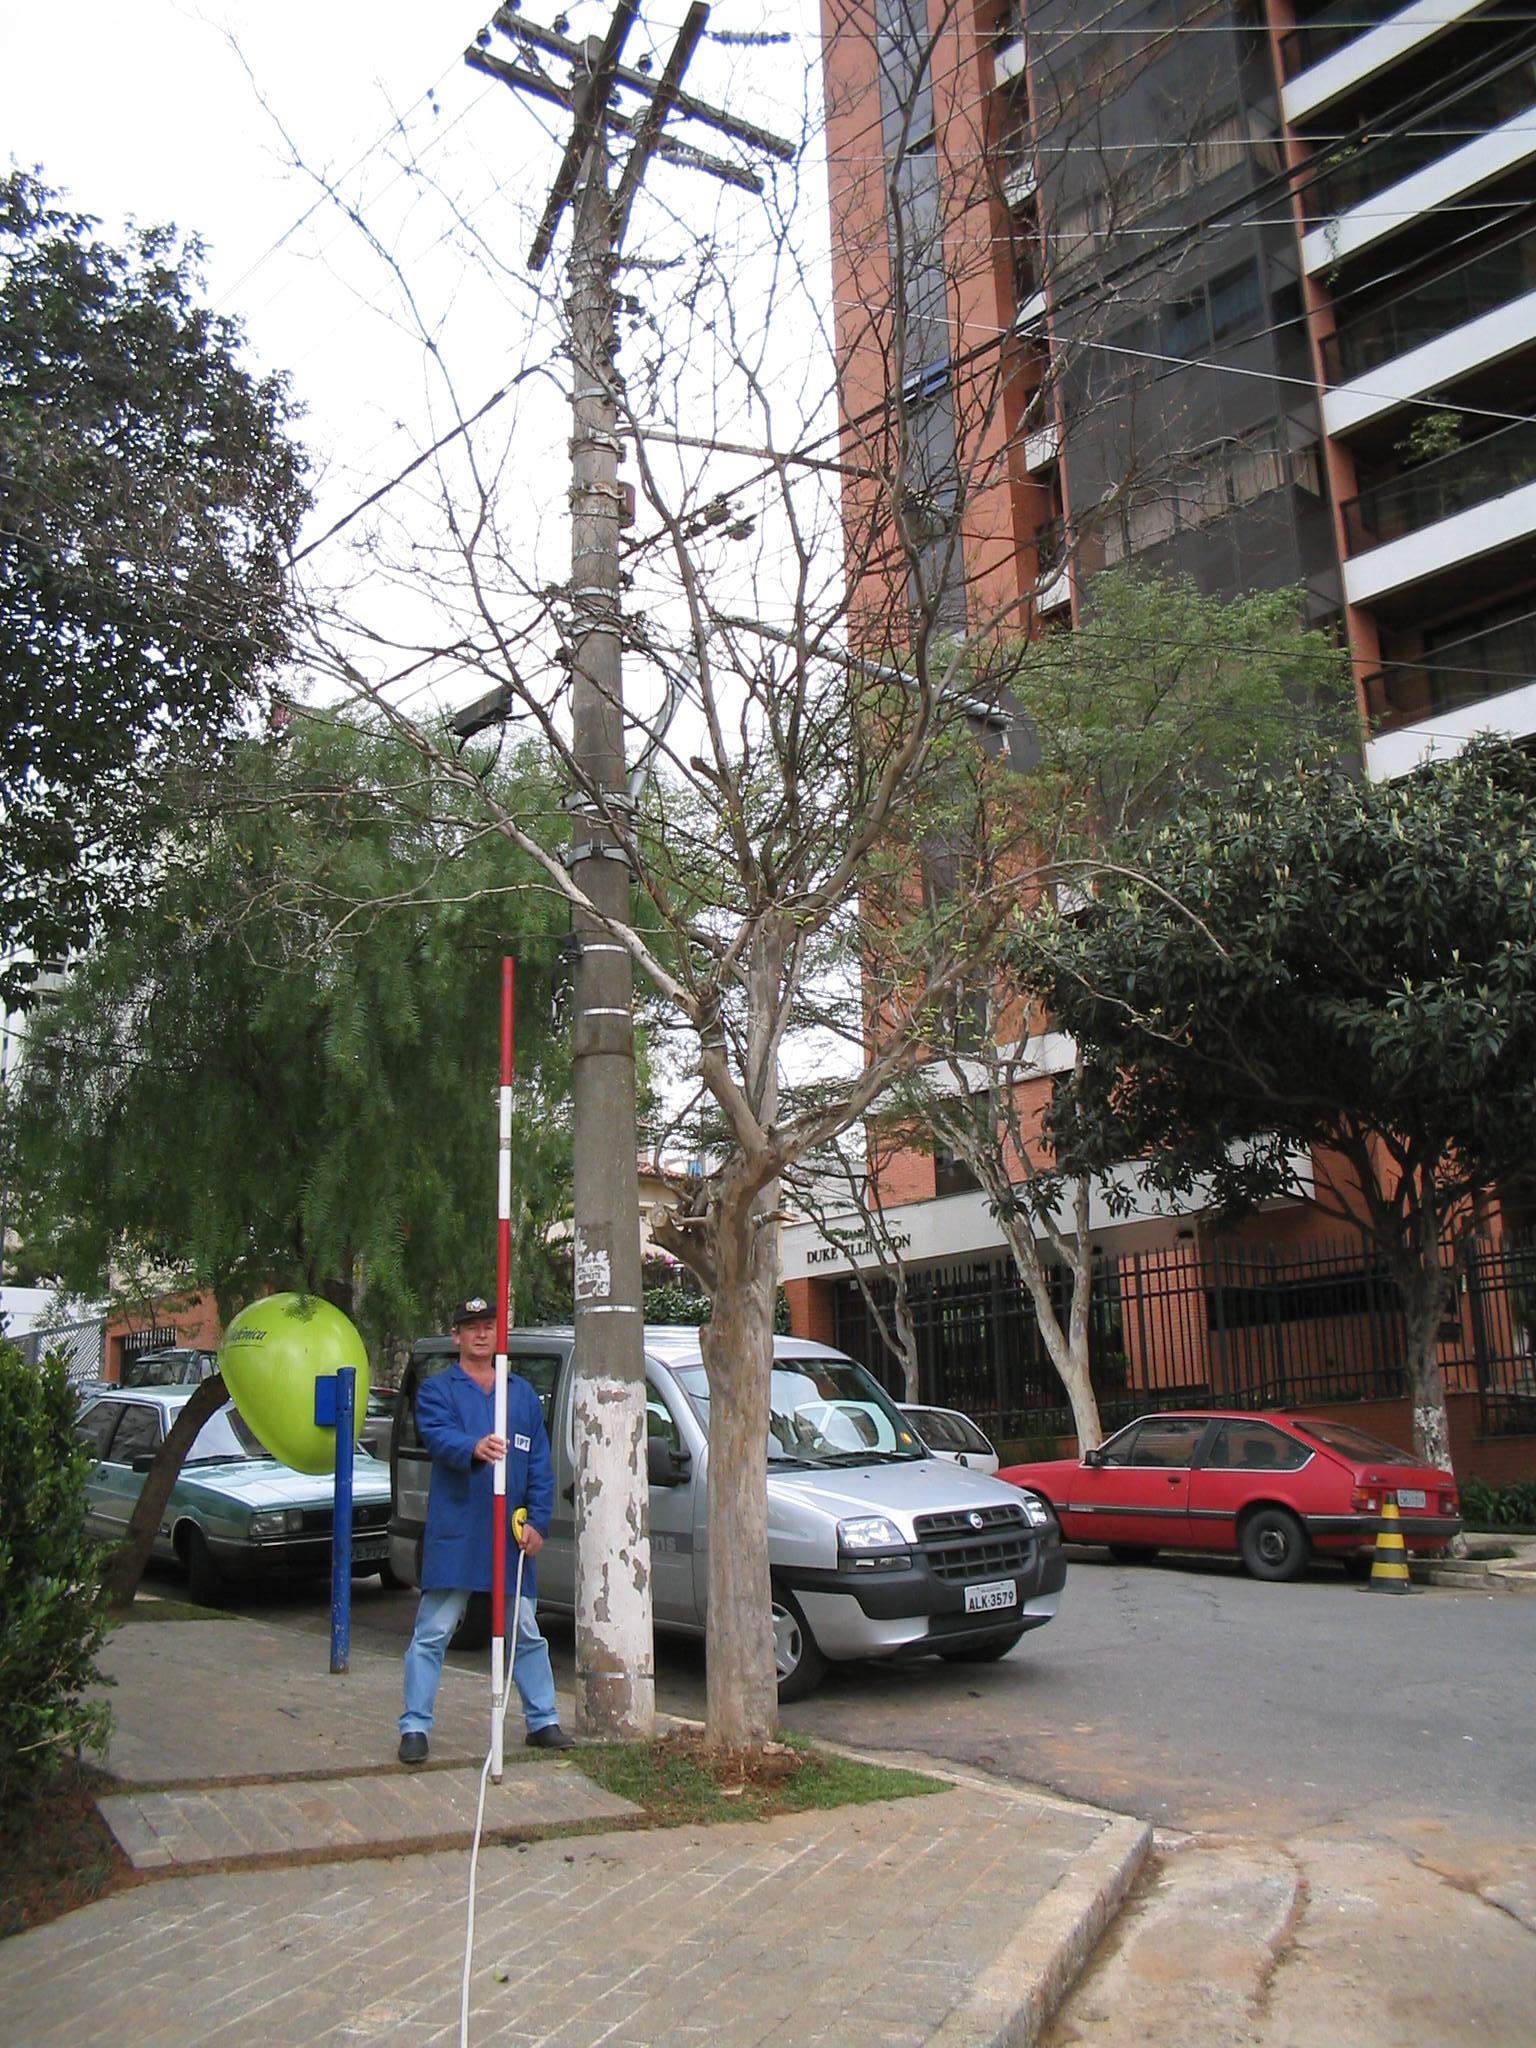crown: (1020, 742, 1531, 1226)
stem: (657, 1174, 841, 1766), (1352, 1287, 1496, 1553)
stick: (453, 958, 552, 1779)
tree: (69, 26, 1386, 1767), (1015, 740, 1536, 1558)
